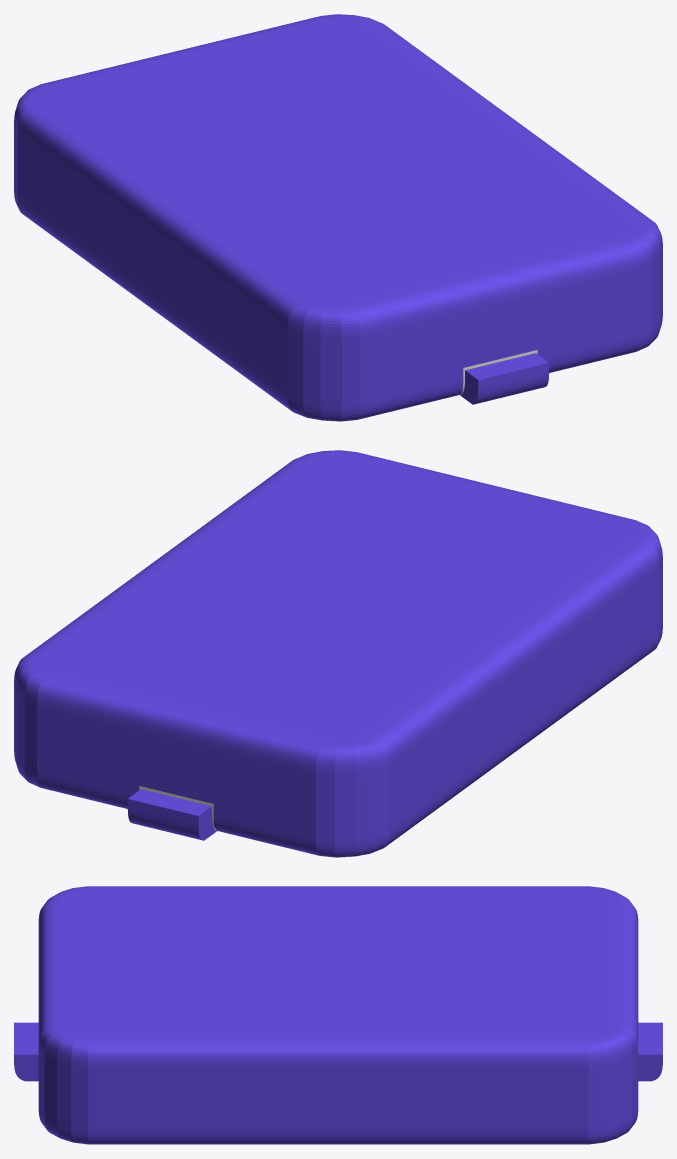
File: field.glb
The picture shows the model from 3 angles, top to bottom: view 1: azimuth 30°, elevation 25°; view 2: azimuth 150°, elevation 25°; view 3: azimuth 270°, elevation 25°; orthographic projection. The views are drawn at different scales.
Visible parts, largest first — view 1: arena-col; view 2: arena-col; view 3: arena-col.
Part boxes in pixels (<box>): arena-col: <box>14,14,662,421</box>; arena-col: <box>14,450,662,857</box>; arena-col: <box>14,886,662,1144</box>.
Size of the model in its own units: 79.48 by 22.51 by 130.
